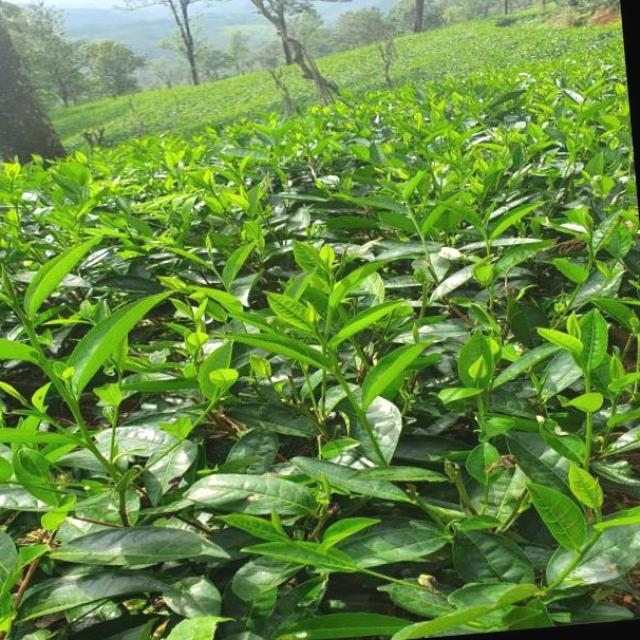Stem: (586, 531, 603, 547), (334, 369, 347, 386), (24, 323, 36, 340), (291, 541, 311, 551), (585, 376, 591, 394), (408, 211, 417, 222), (206, 401, 215, 411), (211, 267, 219, 275), (586, 261, 593, 270), (330, 279, 334, 293), (487, 246, 491, 256)
